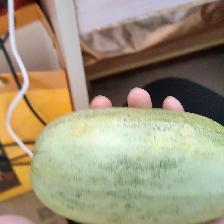gua: (54, 114, 212, 218)
